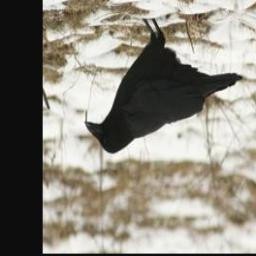Crow: (80, 15, 241, 163)
